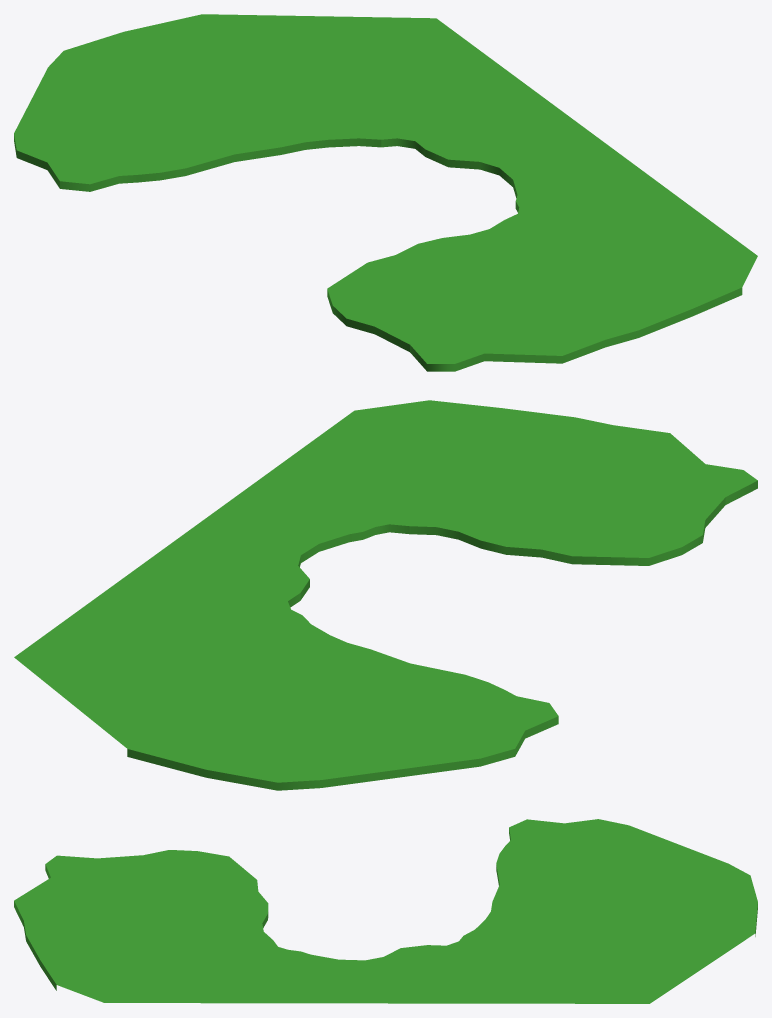
File: Ground.fbx
The picture shows the model from 3 angles, top to bottom: view 1: azimuth 30°, elevation 25°; view 2: azimuth 150°, elevation 25°; view 3: azimuth 270°, elevation 25°; orthographic projection. The views are drawn at different scales.
Parts seen in each view (by area): view 1: pCube47; view 2: pCube47; view 3: pCube47.
Boxes of the visible parts, x1,y1,x2,y2 form: pCube47: (14,14,757,371); pCube47: (14,400,757,790); pCube47: (14,819,757,1003).
Size of the model in its own units: 24731 by 417 by 42049.
